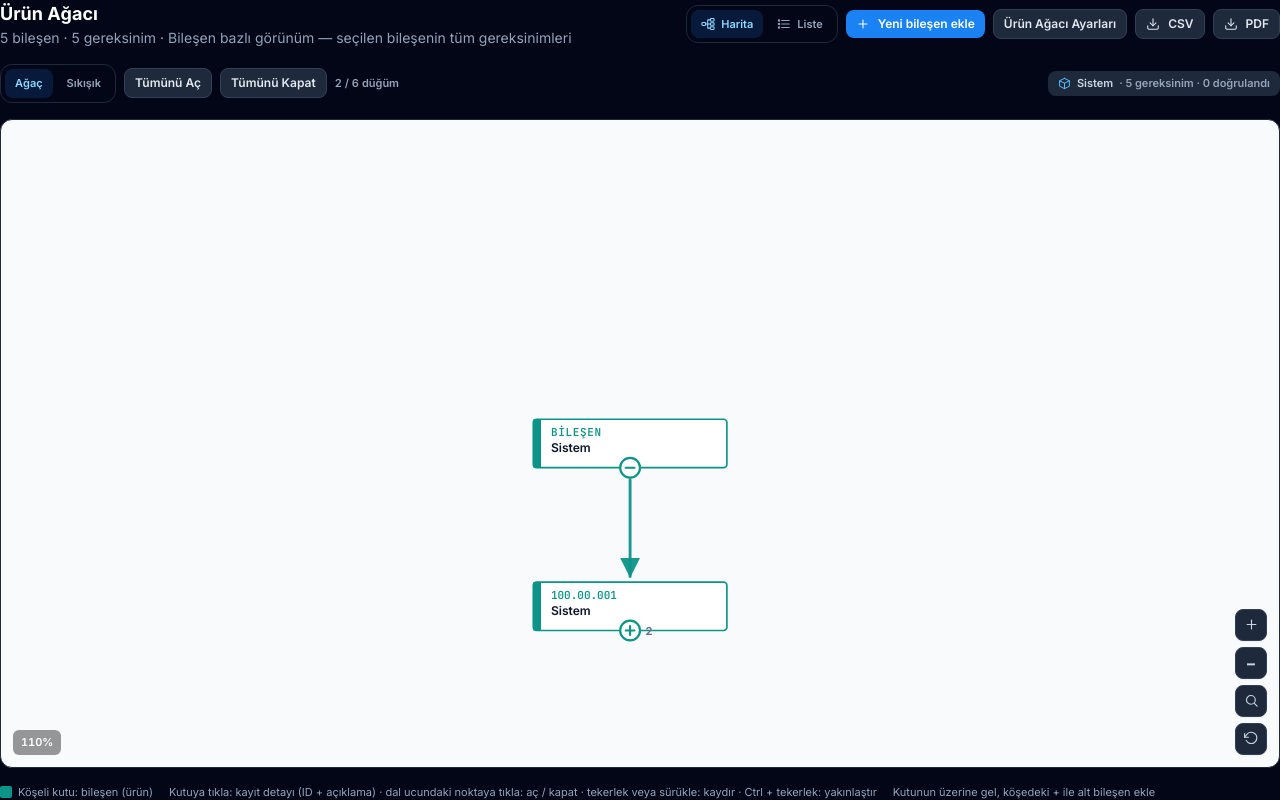
Scenario: Parça No — elle düzenleme › bilesen formu secili bilesenin numarasini tasir
The image size is (1280, 800).
Click the button with test id "comp-view-list" at (800, 24), box 767,10 -> 833,38
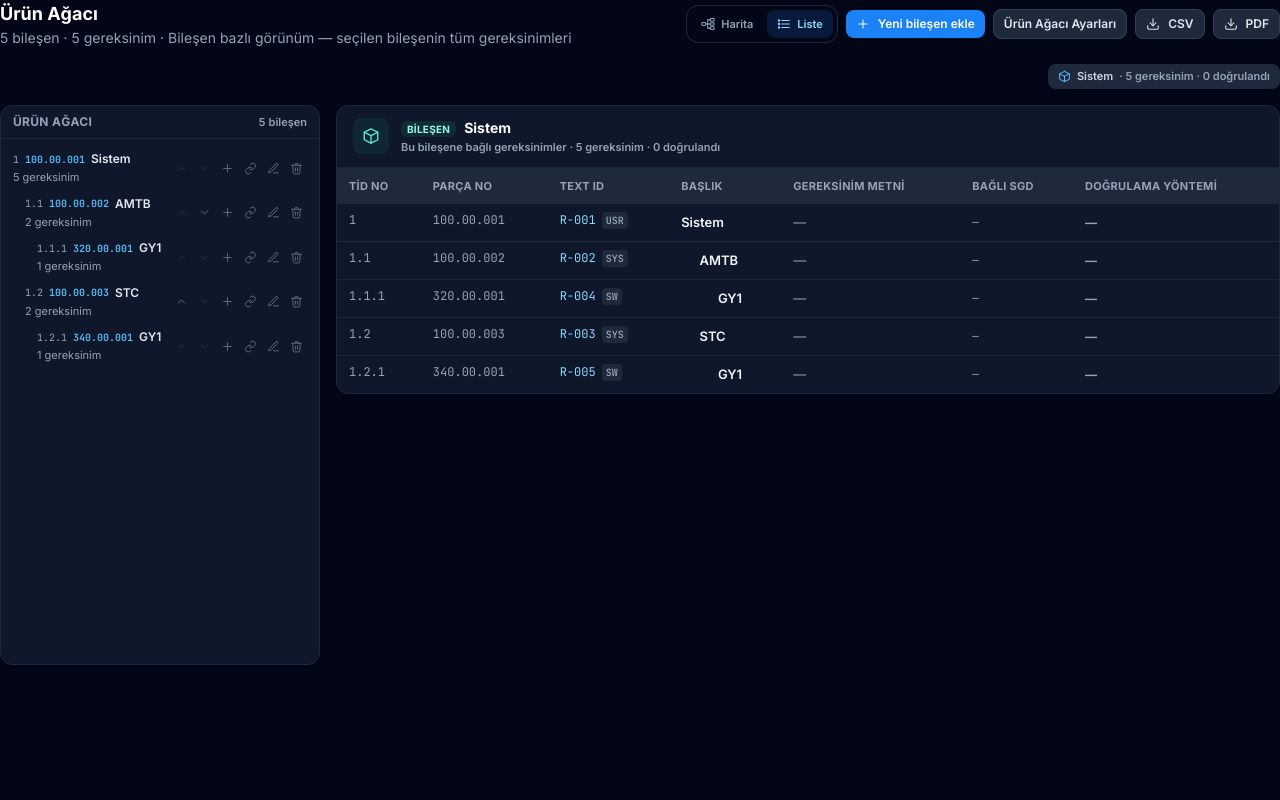
Result: the button with test id "comp-item-amtb" is shown at 25,196 -> 167,230
Click the button with test id "comp-edit-amtb" at (274, 213), box 263,202 -> 284,223
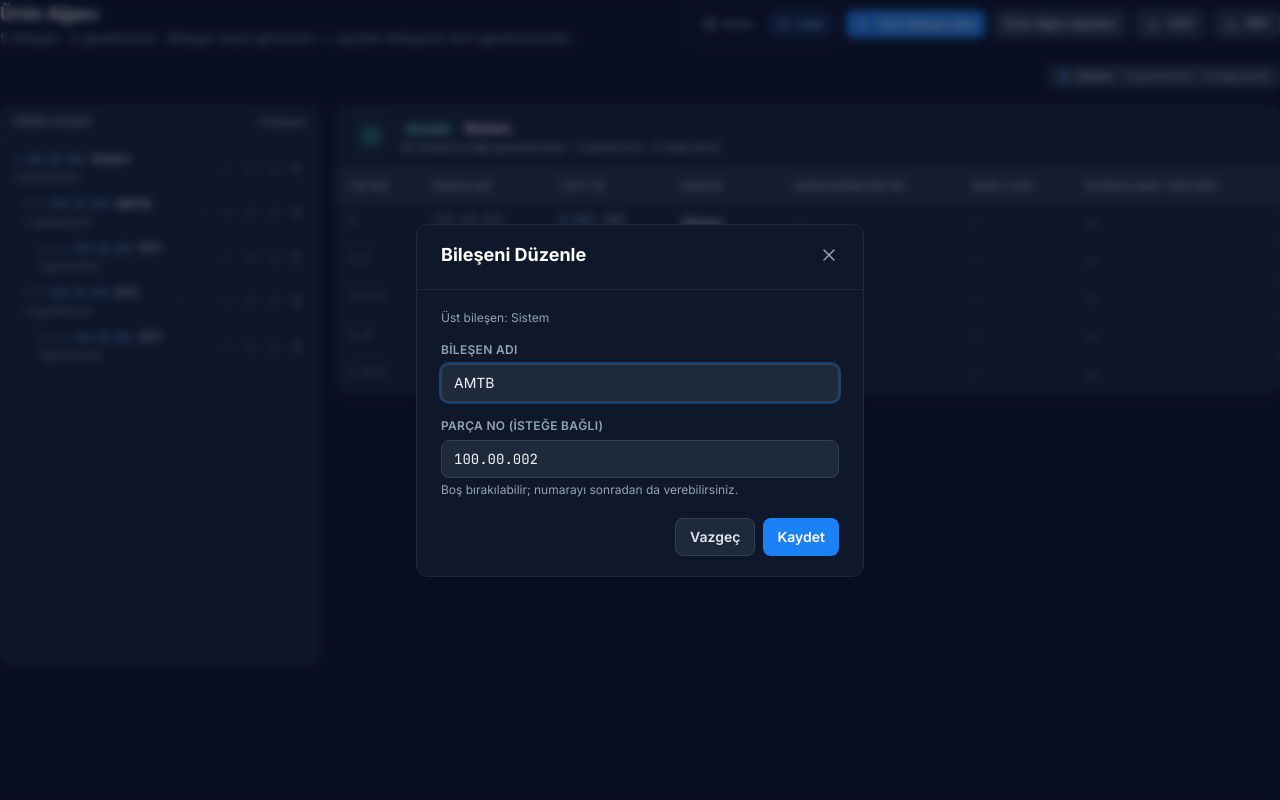
Result: the field with test id "comp-partno-input" holds "100.00.002" at 441,440 -> 839,478
